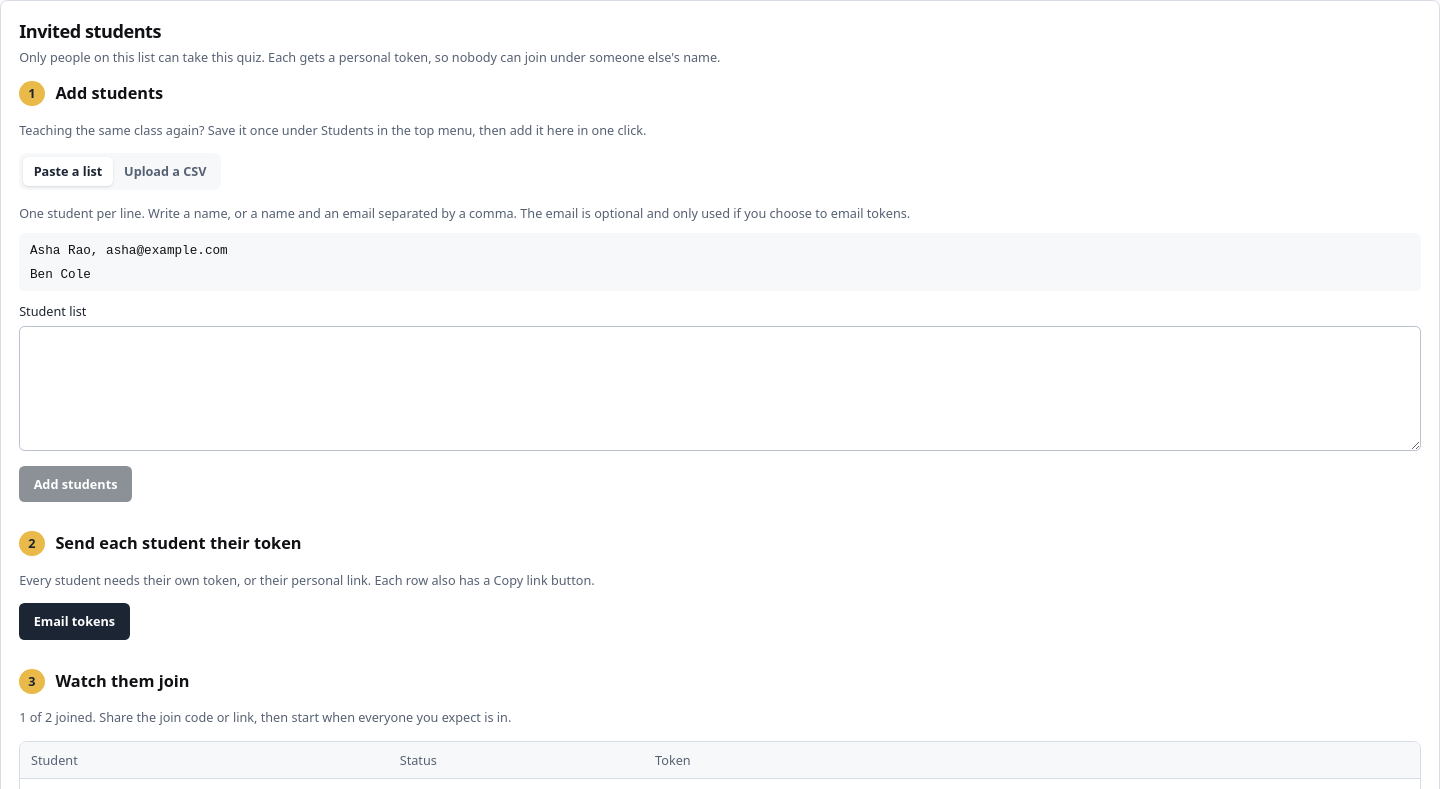
RosterPanel › shows the server reason when the list is refused
In the text box labelled "Student list": (720, 388) [19, 326, 1421, 451], type "Asha Rao"
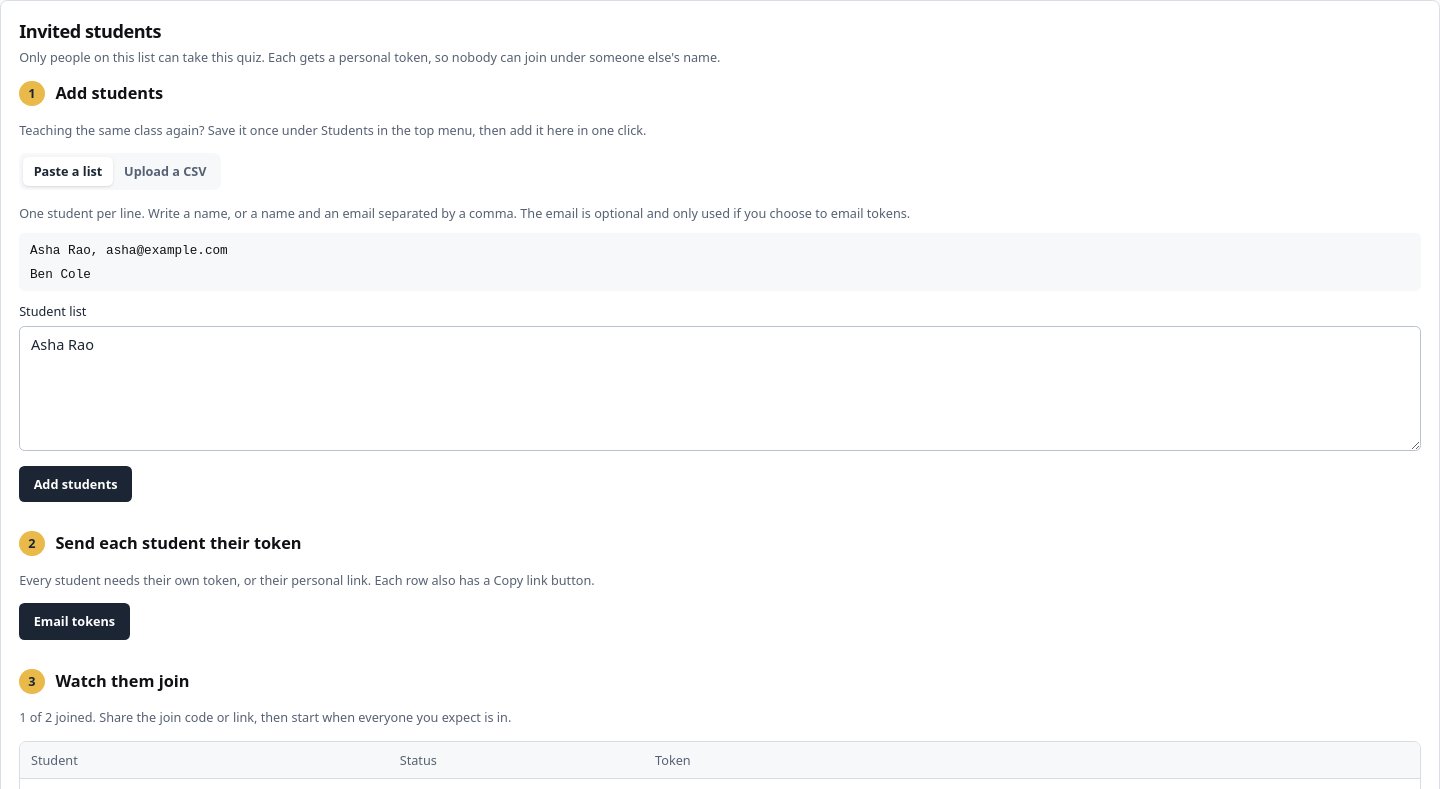
Click the button "Add students": (76, 484) [19, 466, 132, 502]
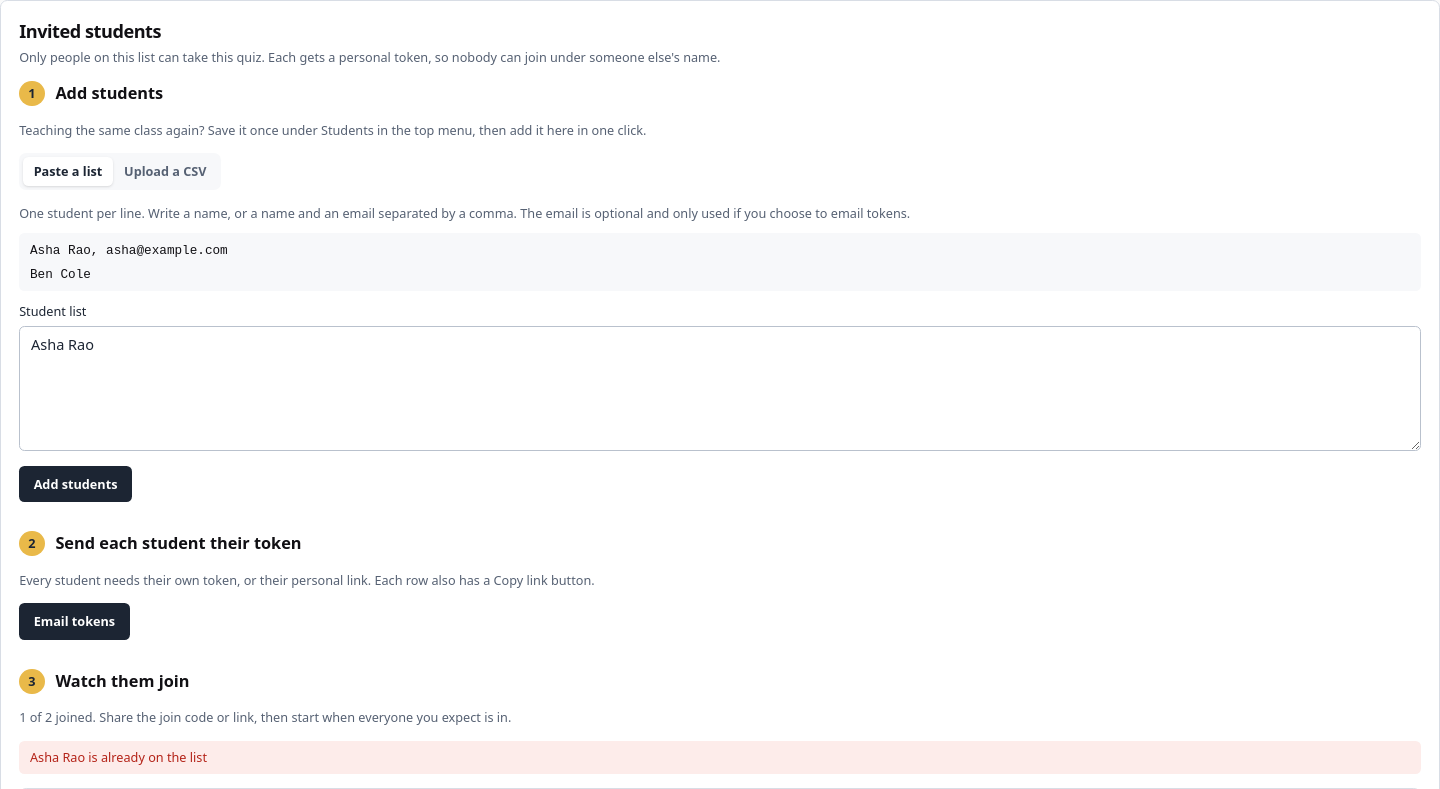
Now the message shows "already on the list", box [30, 748, 207, 766]
